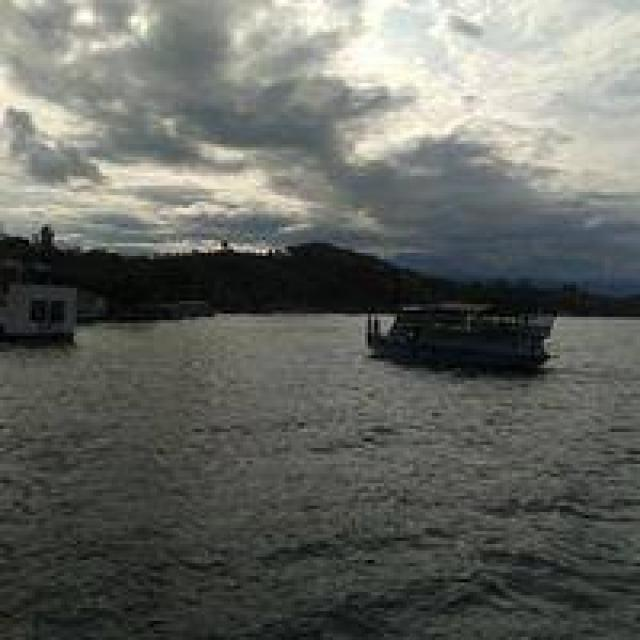houseboat: (362, 280, 564, 381)
